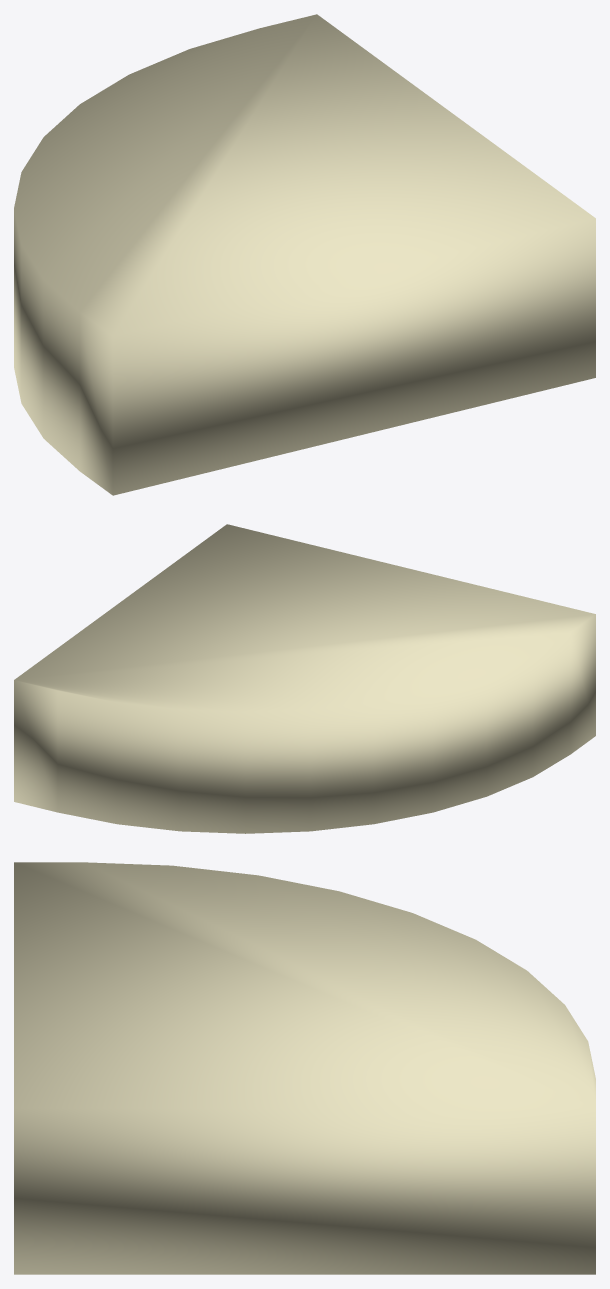
File: piece_of_cheese.fbx
3 views of the same model, one above another, from view 1: azimuth 30°, elevation 25°; view 2: azimuth 150°, elevation 25°; view 3: azimuth 270°, elevation 25° (orthographic). The views are drawn at different scales.
Parts seen in each view (by area): view 1: Cube; view 2: Cube; view 3: Cube.
Part boxes in pixels (bbox=[...]): Cube: bbox=[14, 14, 595, 495]; Cube: bbox=[14, 524, 595, 833]; Cube: bbox=[14, 862, 595, 1274].
Size of the model in its own units: 18.67 by 5.89 by 18.67.
